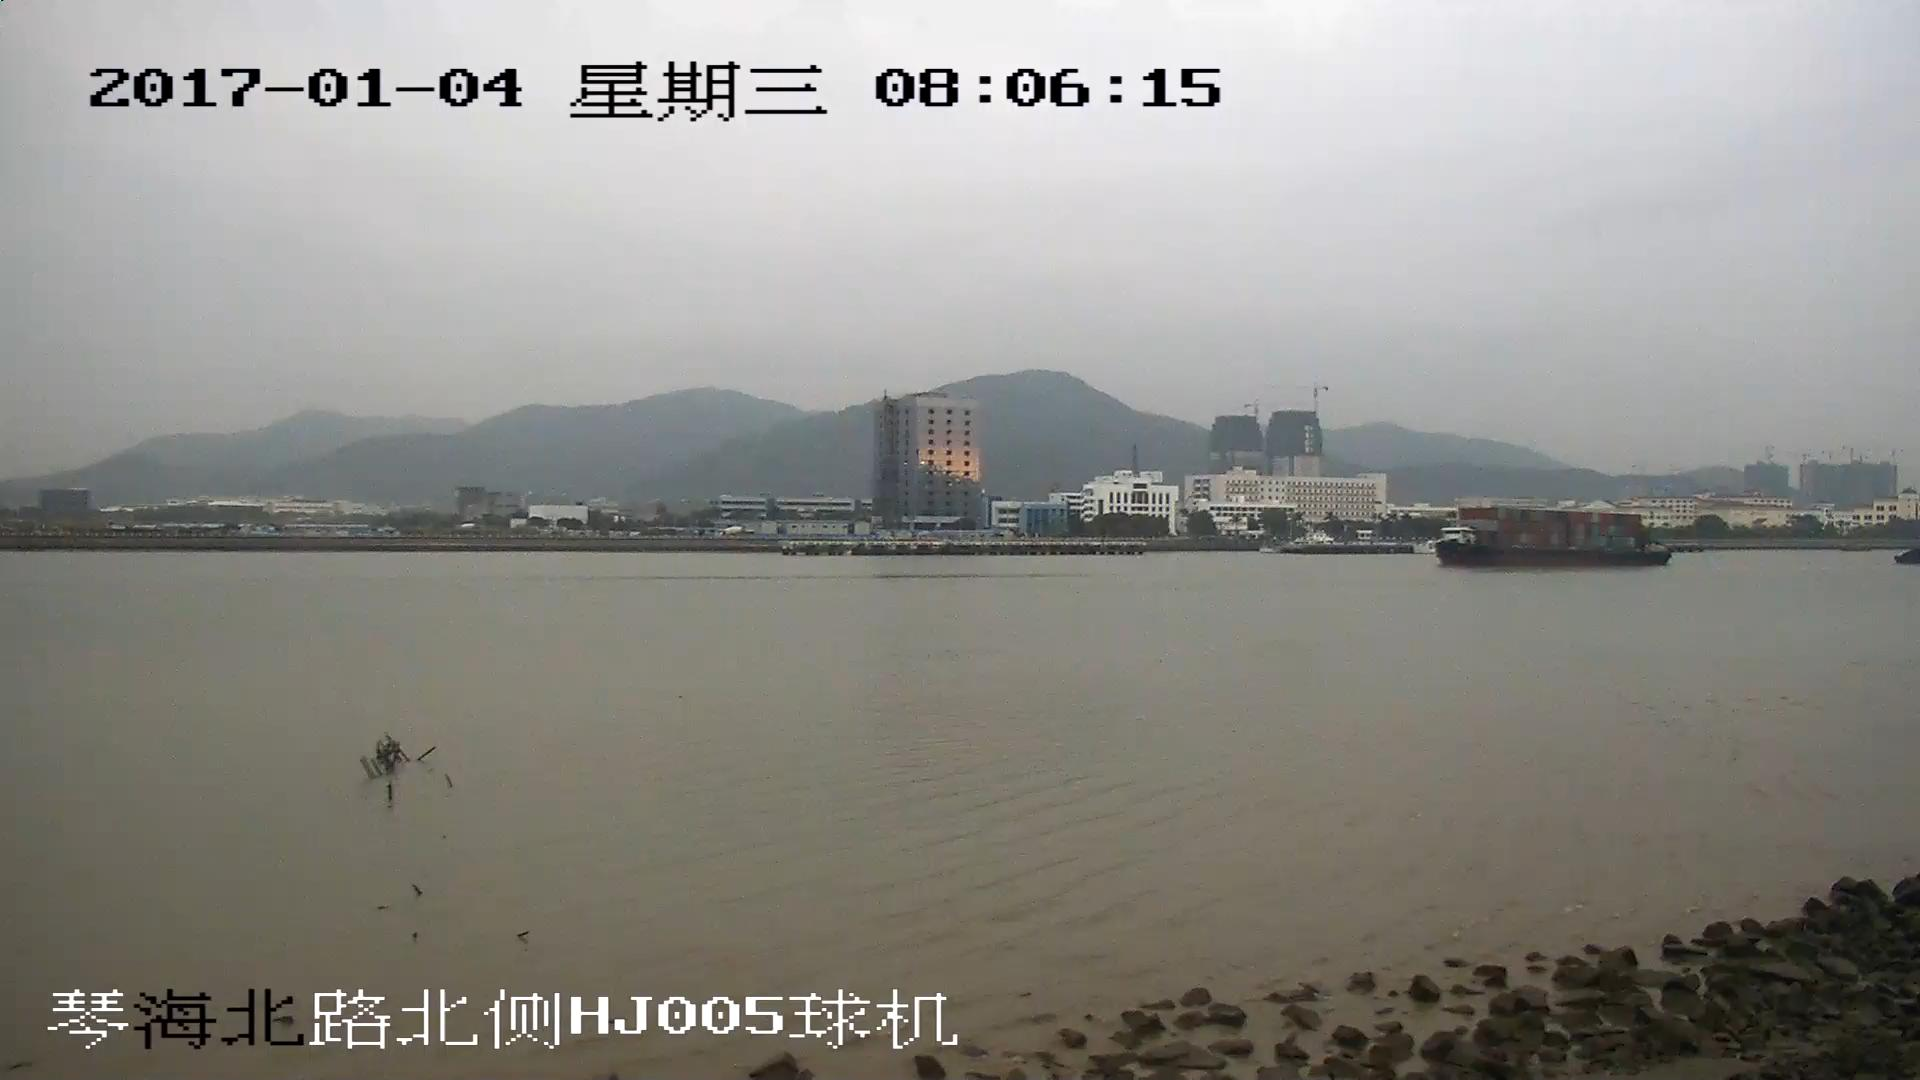container ship: (1438, 505, 1668, 570)
